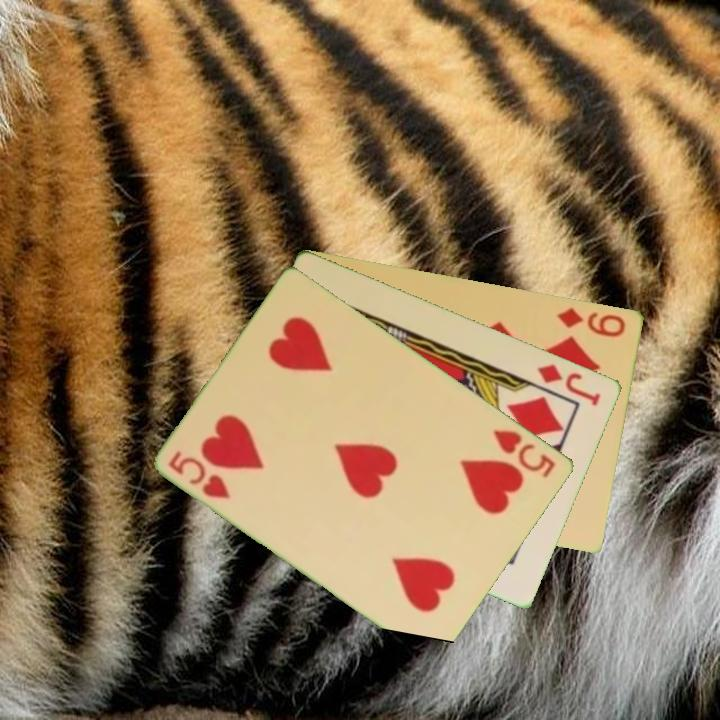5h: (489, 426, 559, 481), (165, 447, 234, 502)
9d: (553, 304, 629, 340)
Jd: (534, 360, 604, 409)
